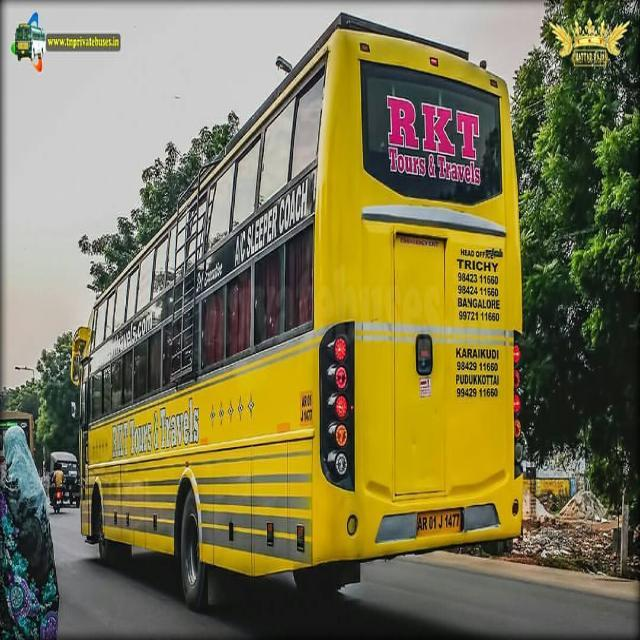Bus: (66, 11, 524, 616)
